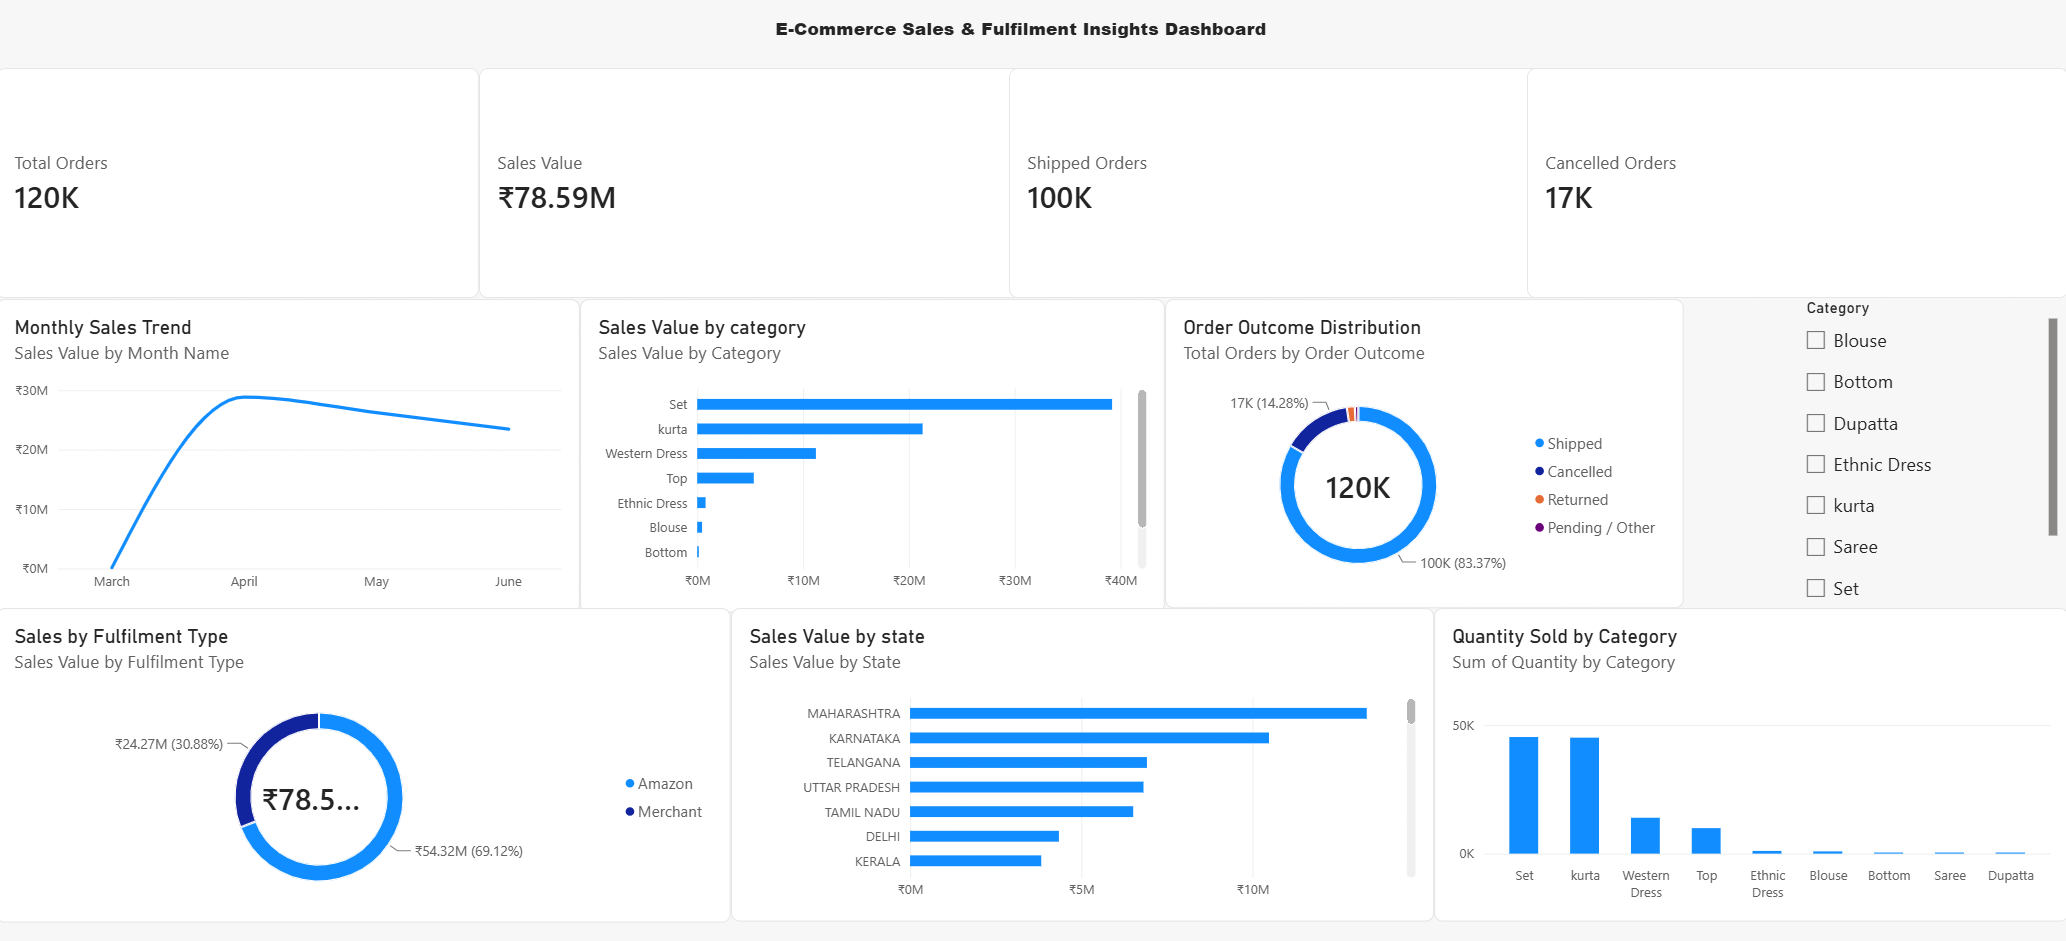

The dashboard page shown, as its layout file describes it:
{"tool":"powerbi","page":{"name":"Page 1","canvas":[1920,1080],"ordinal":0},"visuals":[{"type":"cardVisual","fields":{"Data":["Sales Data.Total Orders"]},"box":[10.1,67.3,445.1,212.9],"z":0},{"type":"cardVisual","fields":{"Data":["Sales Data.Sales Value"]},"box":[455.2,67.3,594.4,212.9],"z":1000},{"type":"cardVisual","fields":{"Data":["Sales Data.Shipped Orders"]},"box":[943.6,67.3,550.1,212.9],"z":2000},{"type":"cardVisual","fields":{"Data":["Sales Data.Cancelled Orders"]},"box":[1421,67.3,499.5,212.9],"z":3000},{"type":"lineChart","title":"Monthly Sales Trend","fields":{"Category":["Sales Data.Month Name"],"Y":["Sales Data.Sales Value"]},"box":[10.1,280.1,538.2,290.3],"z":4000},{"type":"clusteredBarChart","title":"Sales Value by category","fields":{"Category":["Sales Data.Category"],"Y":["Sales Data.Sales Value"]},"box":[548.3,280.1,539.1,289.4],"z":5000},{"type":"donutChart","title":"Order Outcome Distribution","fields":{"Category":["Sales Data.Order Outcome"],"Y":["Sales Data.Total Orders"]},"box":[1087.4,280.1,478.3,284.7],"z":6000},{"type":"clusteredBarChart","title":"Sales Value by state","fields":{"Category":["Sales Data.State"],"Y":["Sales Data.Sales Value"]},"box":[687.4,564.9,647.8,289.4],"z":7000},{"type":"slicer","fields":{"Values":["Sales Data.Category"]},"box":[1670.7,280.1,238.7,280.1],"z":8000},{"type":"textbox","box":[0,0,1909.4,73.7],"z":10001},{"type":"donutChart","title":"Sales by Fulfilment Type","fields":{"Category":["Sales Data.Fulfilment Type"],"Y":["Sales Data.Sales Value"]},"box":[10.1,564.9,677.3,290.3],"z":10002},{"type":"clusteredColumnChart","title":"Quantity Sold by Category","fields":{"Category":["Sales Data.Category"],"Y":["Sum(Sales Data.Quantity)"]},"box":[1335.3,564.9,585.2,289.4],"z":10003}]}

Visuals, with their boxes on the page's 1920x1080 design canvas (x1, y1, x2, y2). These are canvas units, not pixel positions in the 2066x941 screenshot, which may show the page scaled, cropped or inside an application window:
cardVisual - Sales Data.Total Orders: [left=10, top=67, right=455, bottom=280]
cardVisual - Sales Data.Sales Value: [left=455, top=67, right=1050, bottom=280]
cardVisual - Sales Data.Shipped Orders: [left=944, top=67, right=1494, bottom=280]
cardVisual - Sales Data.Cancelled Orders: [left=1421, top=67, right=1920, bottom=280]
"Monthly Sales Trend" lineChart: [left=10, top=280, right=548, bottom=570]
"Sales Value by category" clusteredBarChart: [left=548, top=280, right=1087, bottom=570]
"Order Outcome Distribution" donutChart: [left=1087, top=280, right=1566, bottom=565]
"Sales Value by state" clusteredBarChart: [left=687, top=565, right=1335, bottom=854]
slicer - Sales Data.Category: [left=1671, top=280, right=1909, bottom=560]
textbox: [left=0, top=0, right=1909, bottom=74]
"Sales by Fulfilment Type" donutChart: [left=10, top=565, right=687, bottom=855]
"Quantity Sold by Category" clusteredColumnChart: [left=1335, top=565, right=1920, bottom=854]
